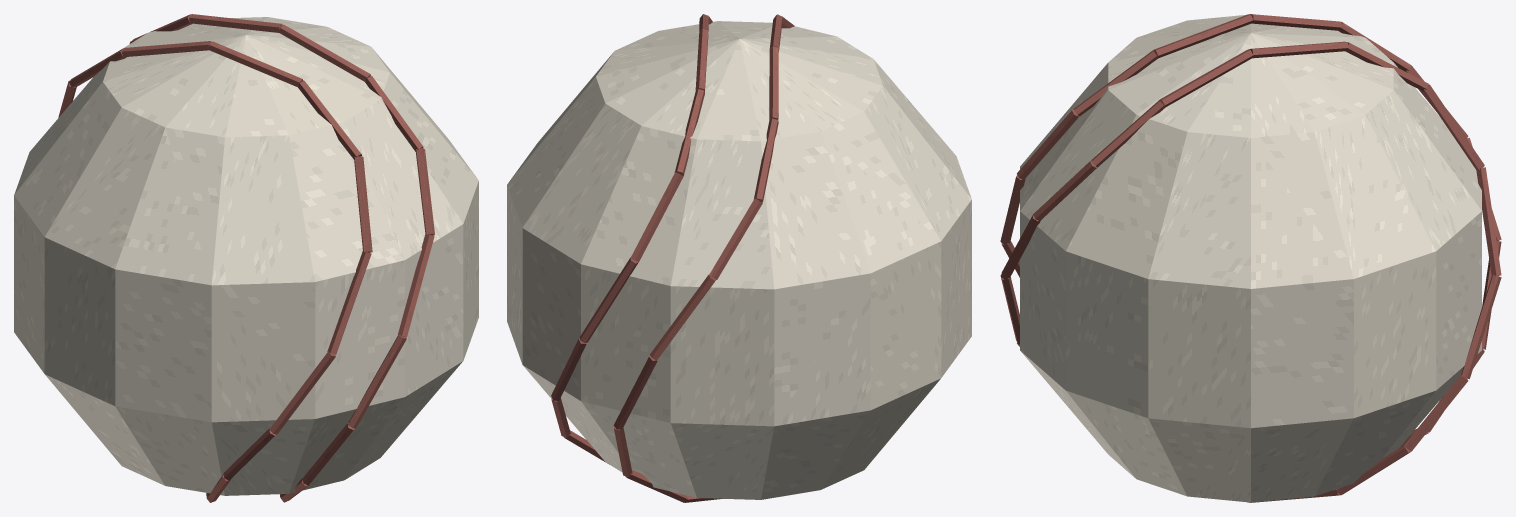
File: baseball.glb
3 views of the same model, side by side, from view 1: azimuth 30°, elevation 25°; view 2: azimuth 150°, elevation 25°; view 3: azimuth 270°, elevation 25° (orthographic).
Visible parts, largest first — view 1: block_ball body, block_ball seam 3 (×2), block_ball seam 0 (×2), block_ball seam 4 (×2), block_ball seam 2 (×2), block_ball seam 15 (×2), block_ball seam 1 (×2), block_ball seam 5 (×2), block_ball seam 14; view 2: block_ball body, block_ball seam 12 (×2), block_ball seam 13 (×2), block_ball seam 14 (×2), block_ball seam 11 (×2), block_ball seam 15 (×2); view 3: block_ball body, block_ball seam 0 (×2), block_ball seam 15 (×2), block_ball seam 1 (×2), block_ball seam 2 (×2), block_ball seam 3 (×2), block_ball seam 12, block_ball seam 11, block_ball seam 13, block_ball seam 10, block_ball seam 14, block_ball seam 9 (+1 smaller).
Part boxes in pixels (bbox=[...]): block_ball body: bbox=[14, 17, 478, 495]; block_ball seam 3 (×2): bbox=[327, 234, 434, 354]; block_ball seam 0 (×2): bbox=[209, 24, 370, 87]; block_ball seam 4 (×2): bbox=[269, 335, 406, 434]; block_ball seam 2 (×2): bbox=[354, 148, 434, 252]; block_ball seam 15 (×2): bbox=[121, 14, 282, 57]; block_ball seam 1 (×2): bbox=[298, 75, 423, 159]; block_ball seam 5 (×2): bbox=[223, 423, 354, 485]; block_ball seam 14: bbox=[69, 48, 126, 87]; block_ball body: bbox=[507, 21, 971, 499]; block_ball seam 12 (×2): bbox=[579, 257, 715, 360]; block_ball seam 13 (×2): bbox=[630, 172, 762, 279]; block_ball seam 14 (×2): bbox=[674, 89, 778, 202]; block_ball seam 11 (×2): bbox=[551, 338, 657, 429]; block_ball seam 15 (×2): bbox=[695, 29, 778, 120]; block_ball body: bbox=[1020, 14, 1481, 502]; block_ball seam 0 (×2): bbox=[1153, 14, 1253, 106]; block_ball seam 15 (×2): bbox=[1249, 14, 1348, 58]; block_ball seam 1 (×2): bbox=[1073, 50, 1165, 167]; block_ball seam 2 (×2): bbox=[1017, 110, 1096, 220]; block_ball seam 3 (×2): bbox=[1000, 175, 1040, 279]; block_ball seam 12: bbox=[1476, 167, 1501, 276]; block_ball seam 11: bbox=[1461, 274, 1501, 379]; block_ball seam 13: bbox=[1423, 84, 1484, 169]; block_ball seam 10: bbox=[1404, 375, 1468, 451]; block_ball seam 14: bbox=[1346, 42, 1428, 91]; block_ball seam 9: bbox=[1336, 445, 1411, 495].
Size of the model in its own units: 0.0709 by 0.075 by 0.075.
Materials: 1 (1 with a texture image).
